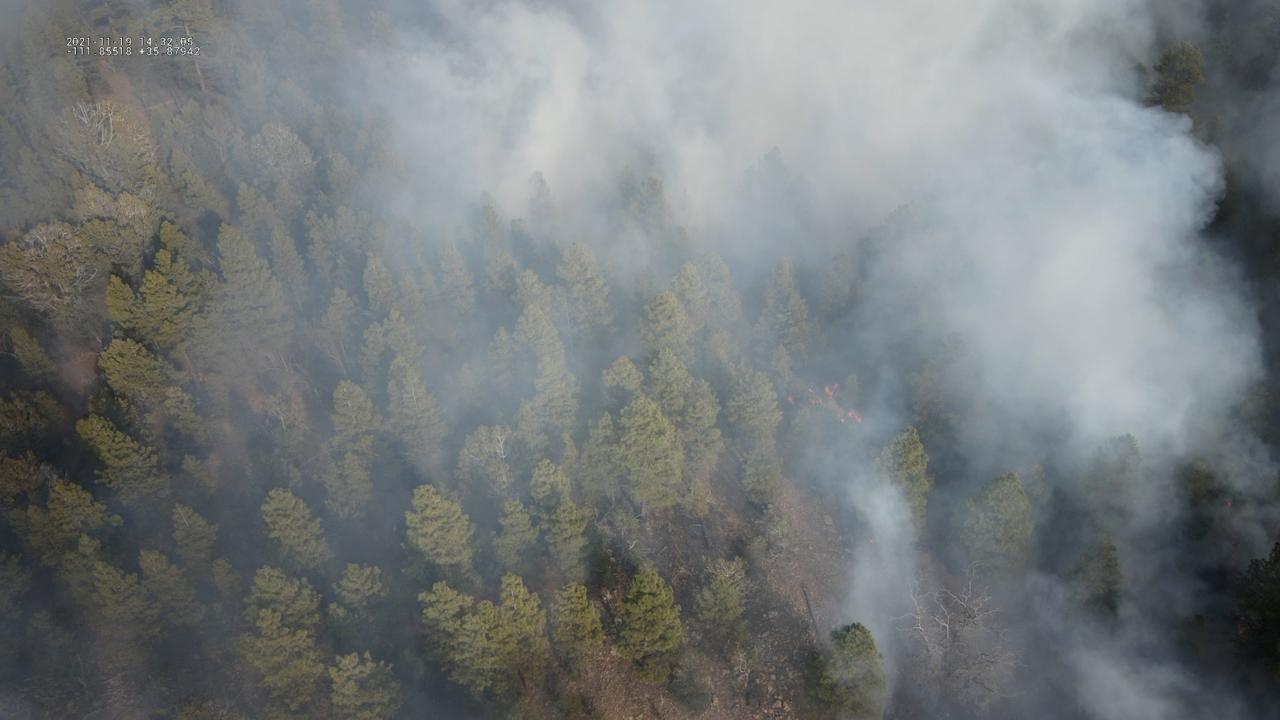fire: (807, 380, 822, 407), (839, 410, 865, 424), (823, 383, 841, 400), (786, 397, 797, 407)
smoke: (0, 0, 1280, 720)
